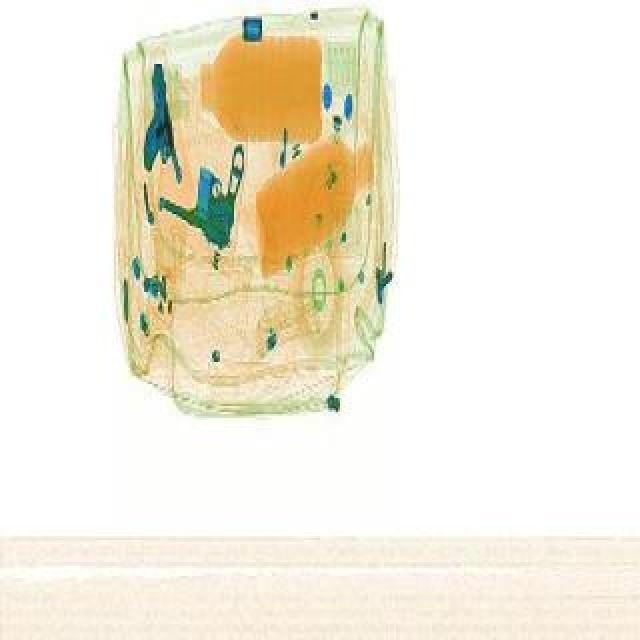gun: (150, 130, 254, 240), (126, 62, 184, 186)
